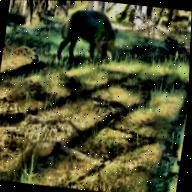boar: (47, 4, 142, 65)
